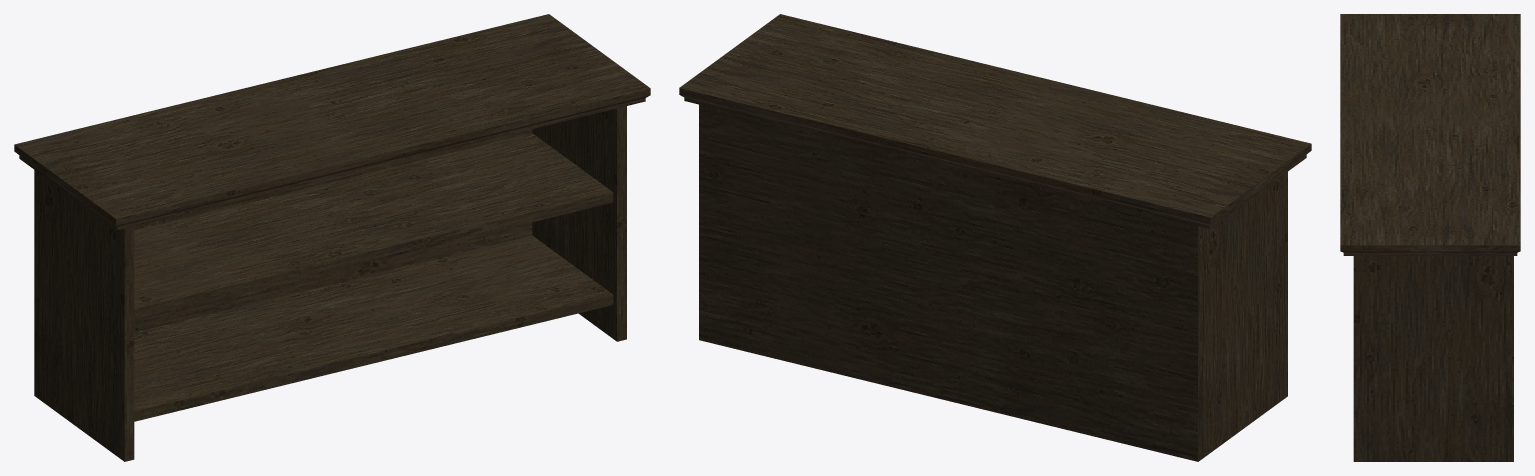
File: tv_table_1_4.glb
3 views of the same model, side by side, from view 1: azimuth 30°, elevation 25°; view 2: azimuth 150°, elevation 25°; view 3: azimuth 270°, elevation 25° (orthographic). The views are drawn at different scales.
Visible parts, largest first — view 1: tv_table_1_4; view 2: tv_table_1_4; view 3: tv_table_1_4.
Boxes of the visible parts, x1,y1,x2,y2 form: tv_table_1_4: [14, 14, 650, 461]; tv_table_1_4: [679, 14, 1311, 461]; tv_table_1_4: [1340, 14, 1520, 461].
Bounding box in the file's own units: 1.64 × 0.74 × 0.54.
Materials: 1 (1 with a texture image).
